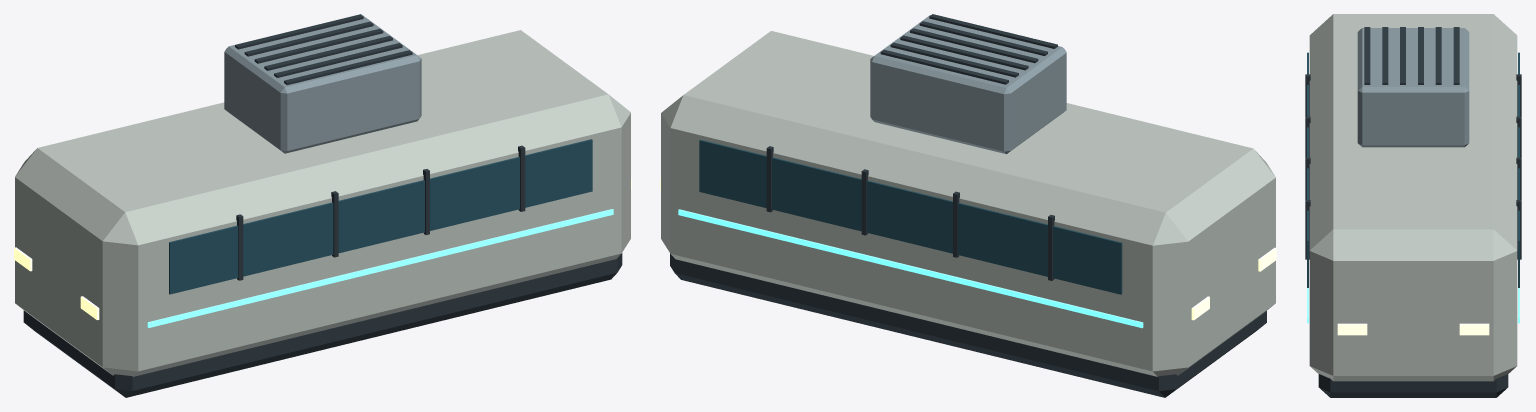
Rendered from data-tram.lod0.glb.
3 views of the same model, side by side, from view 1: azimuth 30°, elevation 25°; view 2: azimuth 150°, elevation 25°; view 3: azimuth 270°, elevation 25° (orthographic). The views are drawn at different scales.
Parts seen in each view (by area): view 1: structure; view 2: structure; view 3: structure.
Part boxes in pixels (x1,y1,x2,y2): structure: (14, 14, 631, 397); structure: (660, 14, 1276, 397); structure: (1305, 14, 1521, 397).
Bounding box in the file's own units: 7.59 × 3.49 × 2.91.
